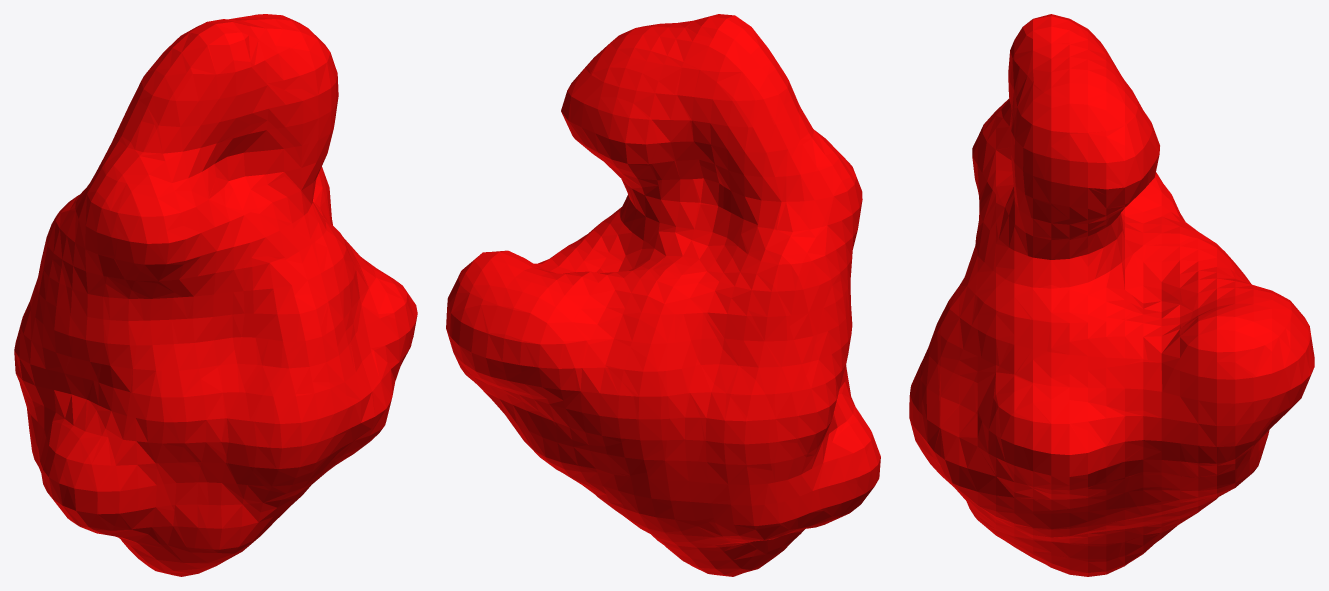
The model's file is uspF_coarse.dae.
3 views of the same model, side by side, from view 1: azimuth 30°, elevation 25°; view 2: azimuth 150°, elevation 25°; view 3: azimuth 270°, elevation 25° (orthographic). The views are drawn at different scales.
Visible parts, largest first — view 1: uspF; view 2: uspF; view 3: uspF.
Boxes of the visible parts, x1=… form: uspF: x1=14, y1=14, x2=417, y2=576; uspF: x1=446, y1=14, x2=880, y2=576; uspF: x1=909, y1=14, x2=1314, y2=576.
Bounding box in the file's own units: 39.25 × 57.36 × 37.34.
